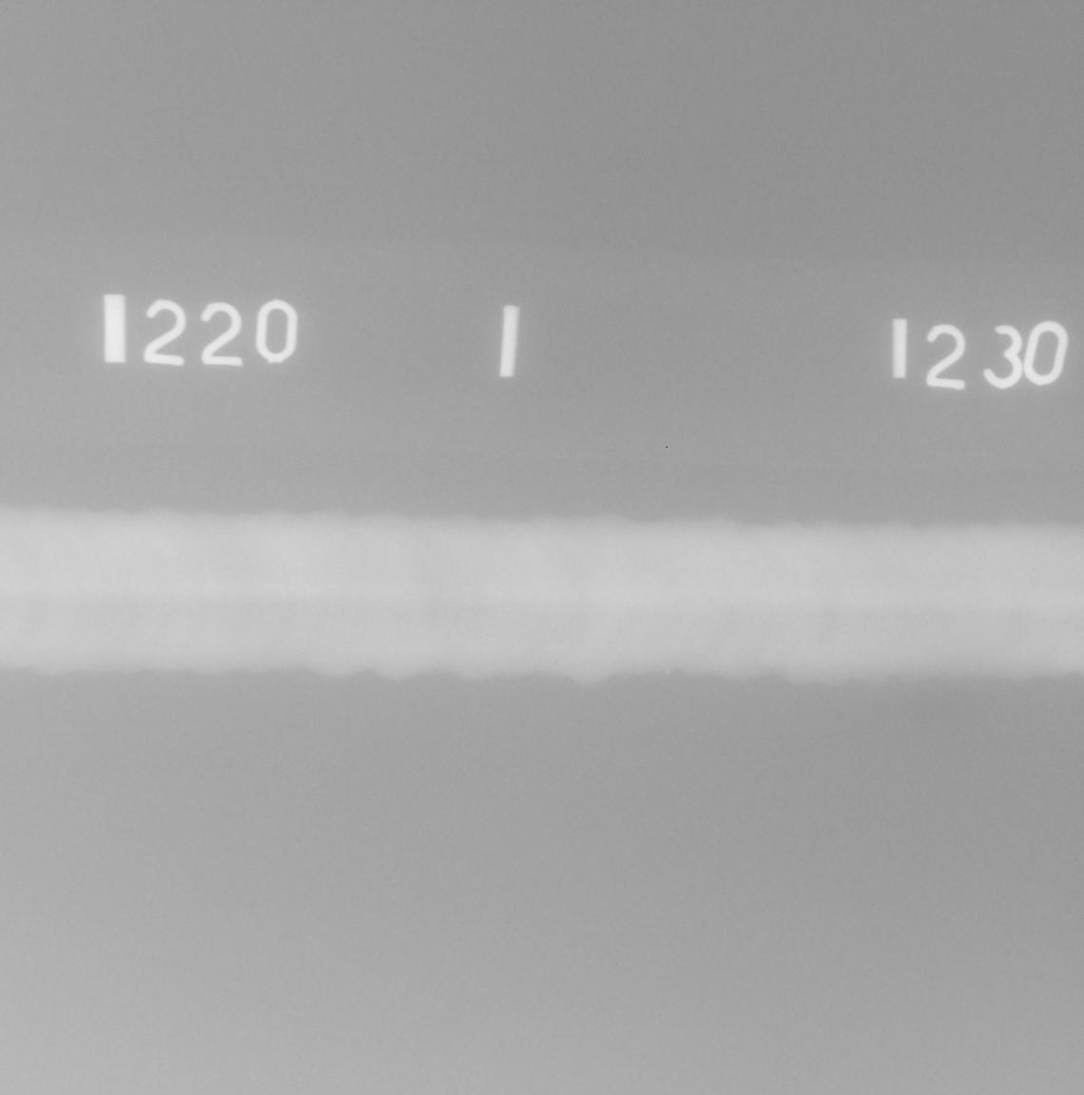Pore/Porosity: (707, 597, 716, 603), (453, 619, 456, 623)
